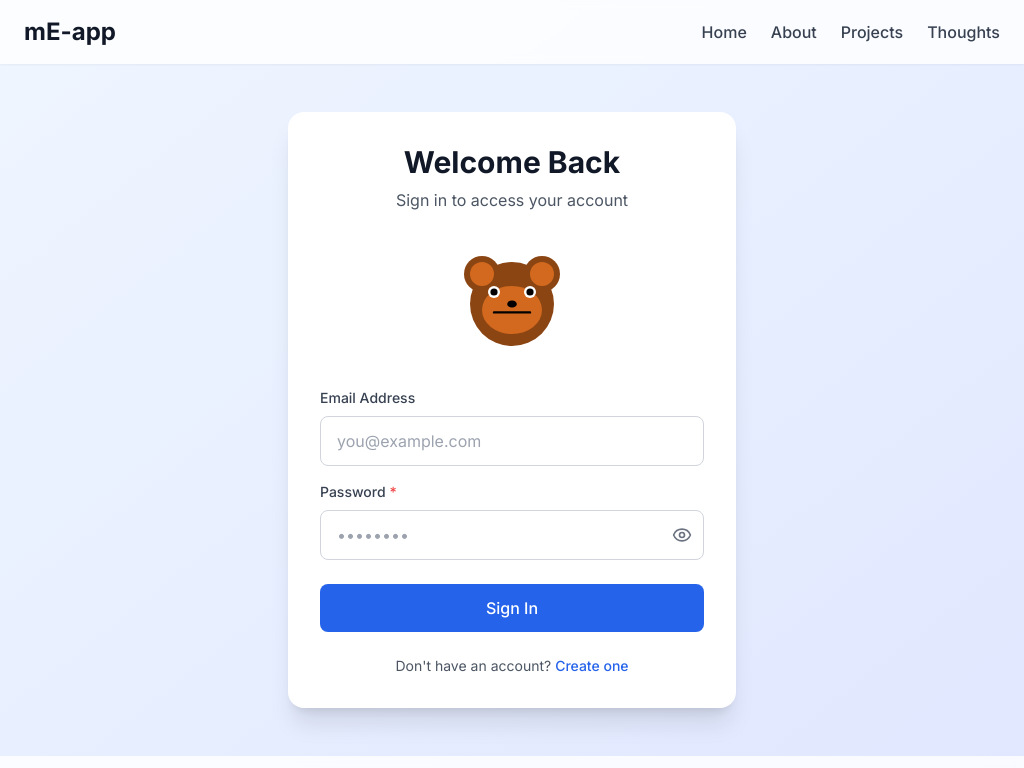
it: Login Page › Form Validation › should show error for empty email
The width and height of the screenshot is (1024, 768).
Click the field labelled "Email Address" at (512, 441), box x1=320 y1=416 x2=704 y2=466
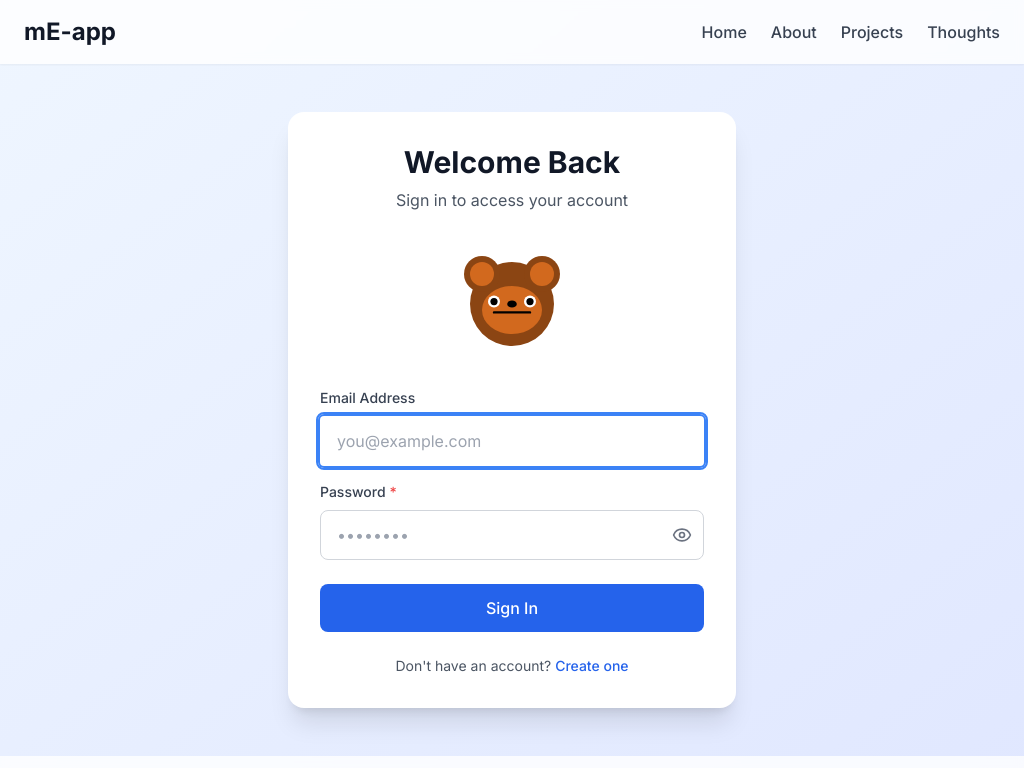
Press Tab
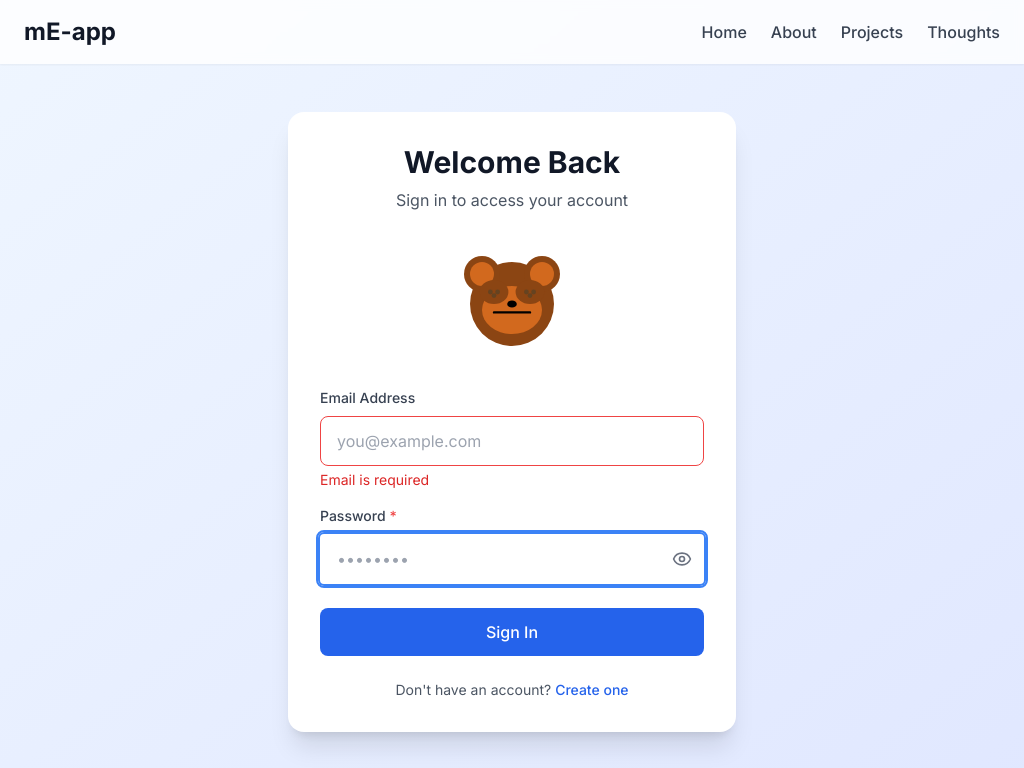
Result: the text "Email is required" is shown at x1=320 y1=471 x2=429 y2=488
